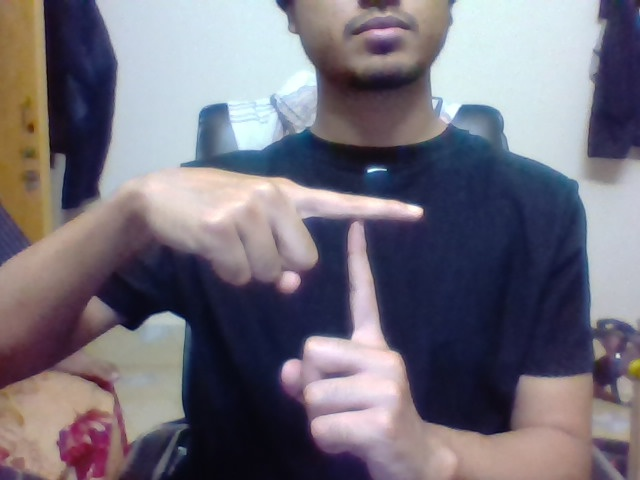T: (327, 178, 433, 321)
